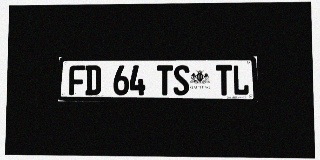4: (130, 65, 145, 95)
6: (113, 65, 129, 95)
D: (85, 65, 101, 95)
F: (69, 65, 85, 95)
L: (232, 65, 249, 95)
S: (173, 65, 189, 95)
T: (157, 65, 173, 95), (216, 65, 232, 95)
